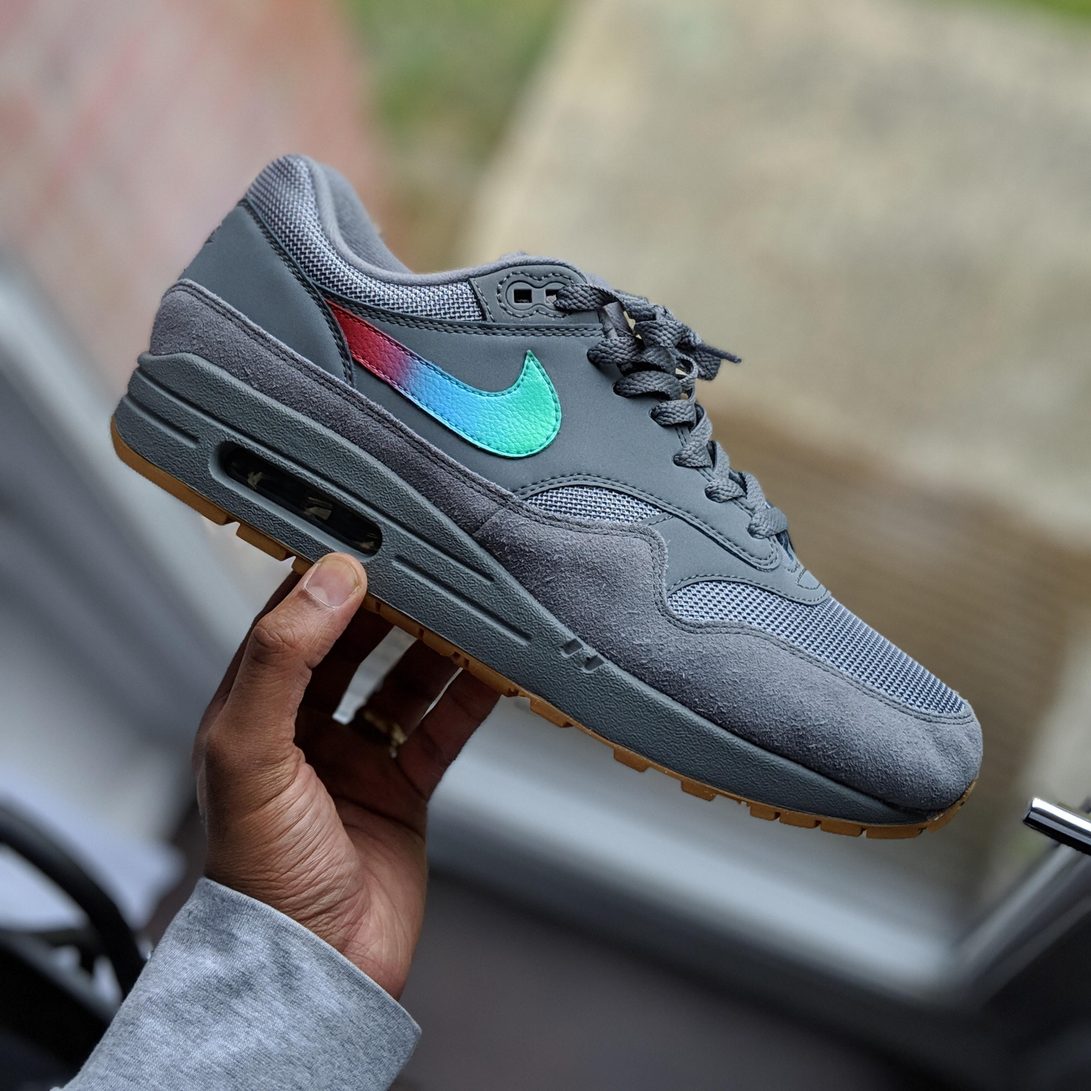sneaker: (105, 137, 994, 848)
